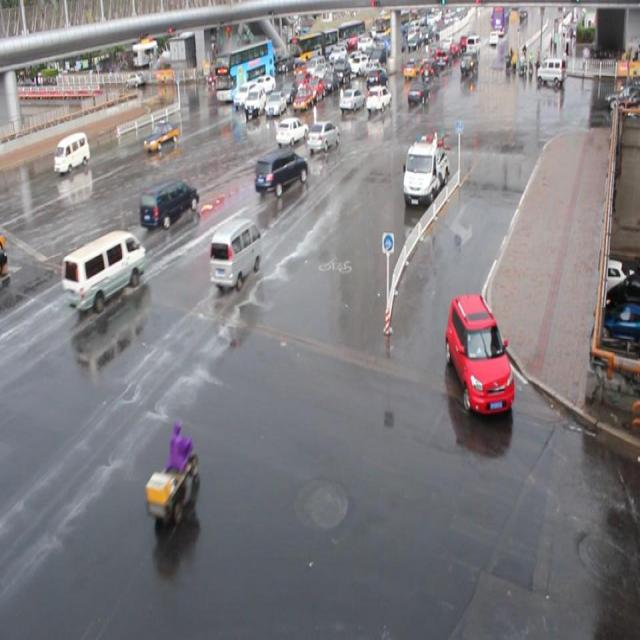bus: (401, 135, 448, 204)
car: (443, 292, 514, 414), (139, 175, 200, 229), (254, 146, 307, 198), (143, 118, 180, 150), (306, 120, 339, 152), (276, 117, 308, 145), (365, 85, 391, 112), (233, 81, 260, 107), (338, 87, 366, 112), (406, 81, 430, 105), (264, 90, 286, 116), (292, 86, 312, 112), (279, 79, 298, 102), (305, 76, 324, 99), (254, 74, 275, 94), (292, 71, 310, 93)
truck: (62, 230, 146, 314), (209, 216, 262, 289), (54, 130, 91, 172), (247, 84, 269, 115)
van: (214, 38, 274, 102)
